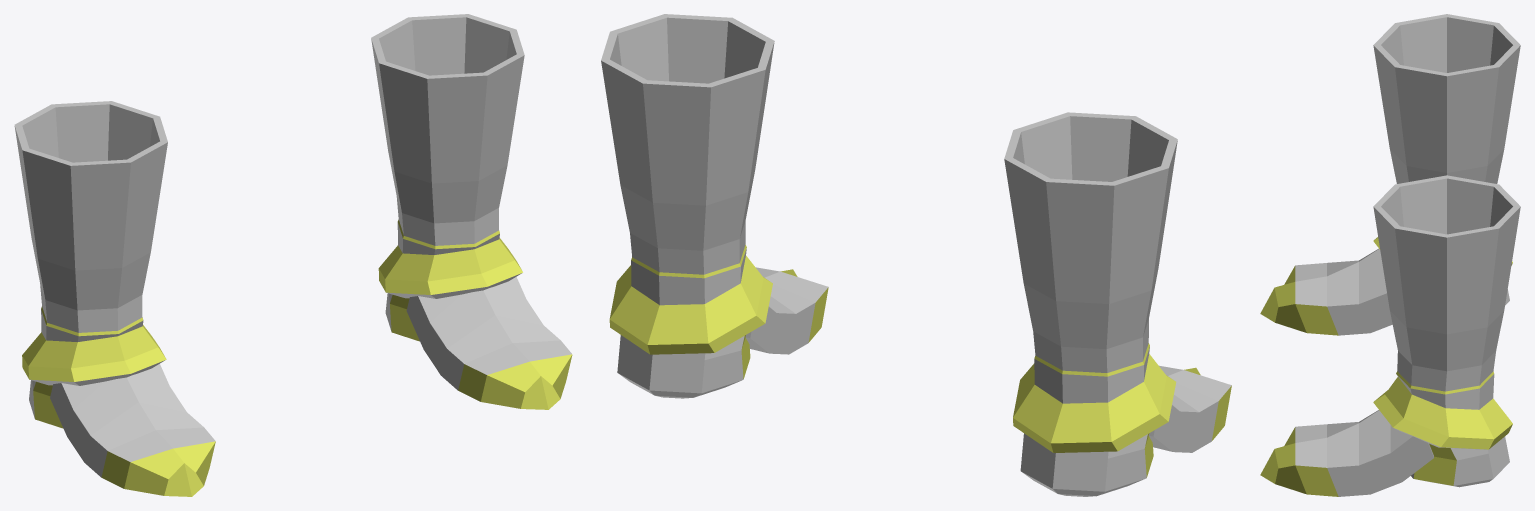
Rendered from armor boots metal.fbx.
3 renders of one model, left to right at view 1: azimuth 30°, elevation 25°; view 2: azimuth 150°, elevation 25°; view 3: azimuth 270°, elevation 25°, orthographic. The views are drawn at different scales.
Visible parts, largest first — view 1: Cylinder.015; view 2: Cylinder.015; view 3: Cylinder.015.
Part boxes in pixels (x1,y1,x2,y2): Cylinder.015: (14, 14, 572, 496); Cylinder.015: (601, 14, 1231, 496); Cylinder.015: (1260, 14, 1520, 496).
Size of the model in its own units: 277 by 156 by 137.
